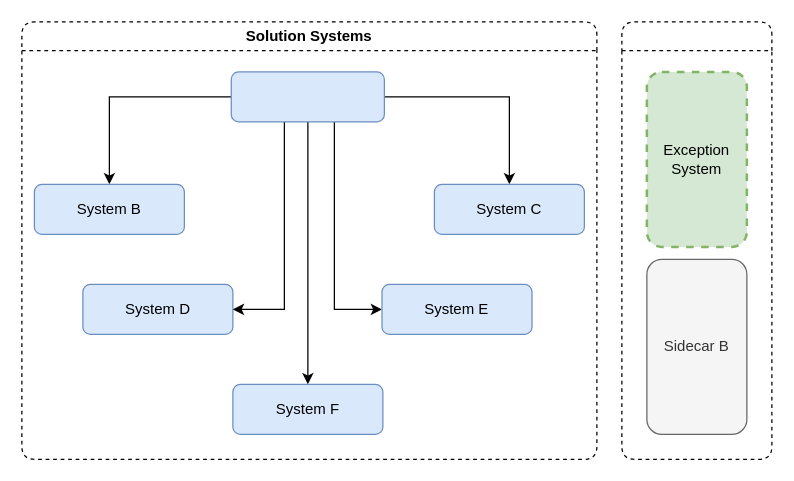
The diagram is 794 pixels wide and 481 high, and some of its shapes have lost their labels. Here are the shapes that lost their labels. From the top down, the box of each, then its label:
(230, 71, 384, 122): System A
(621, 21, 772, 459): Sidecars
